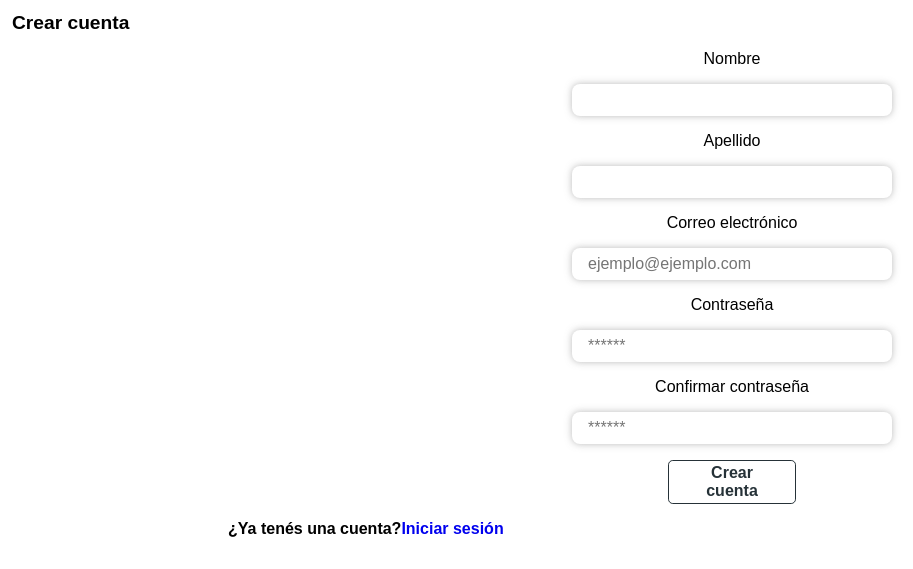
Test: Pruebas en <CreateAccount /> › Funcionamiento del mensaje de error en el input "Contraseña"
Type "rar" into the password field labelled "Contraseña" at (732, 346), box [572,330,892,362]
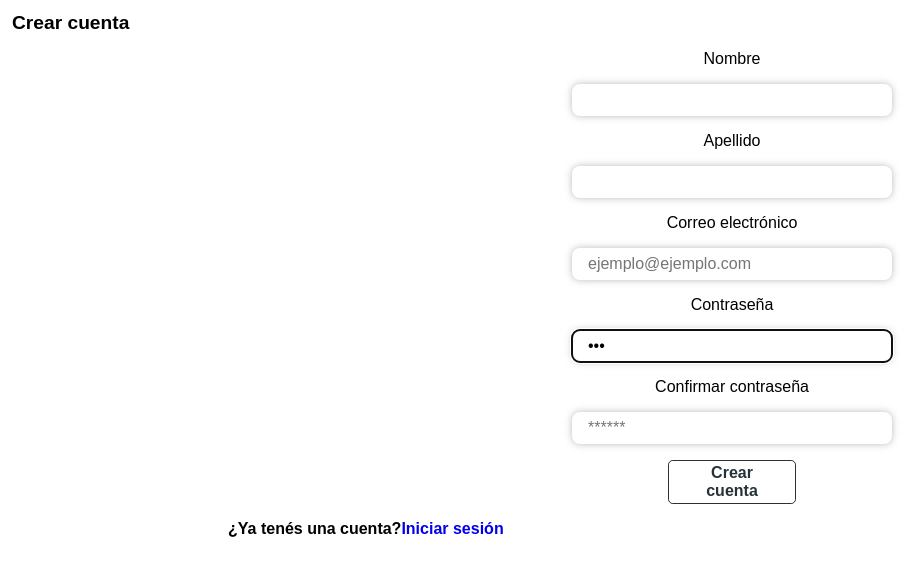
Note: Click en boton 'Crear cuenta' para lanzar error
Click the button "Crear cuenta" at (732, 482), box [668,460,796,504]
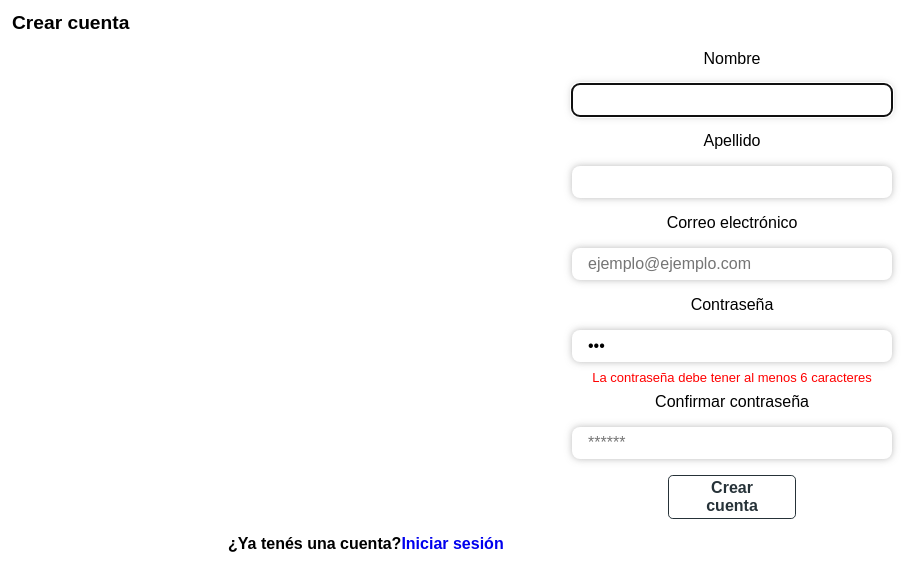
Expected: the text "La contraseña debe tener al menos 6 caracteres" is shown, [592,370,872,385]
